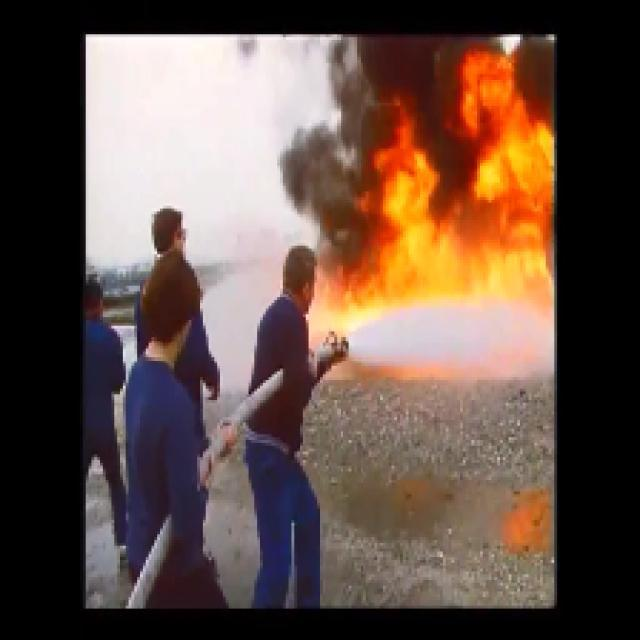Fire: (471, 57, 530, 297), (380, 162, 437, 299)
Smoke: (353, 40, 438, 144), (296, 141, 346, 210)
